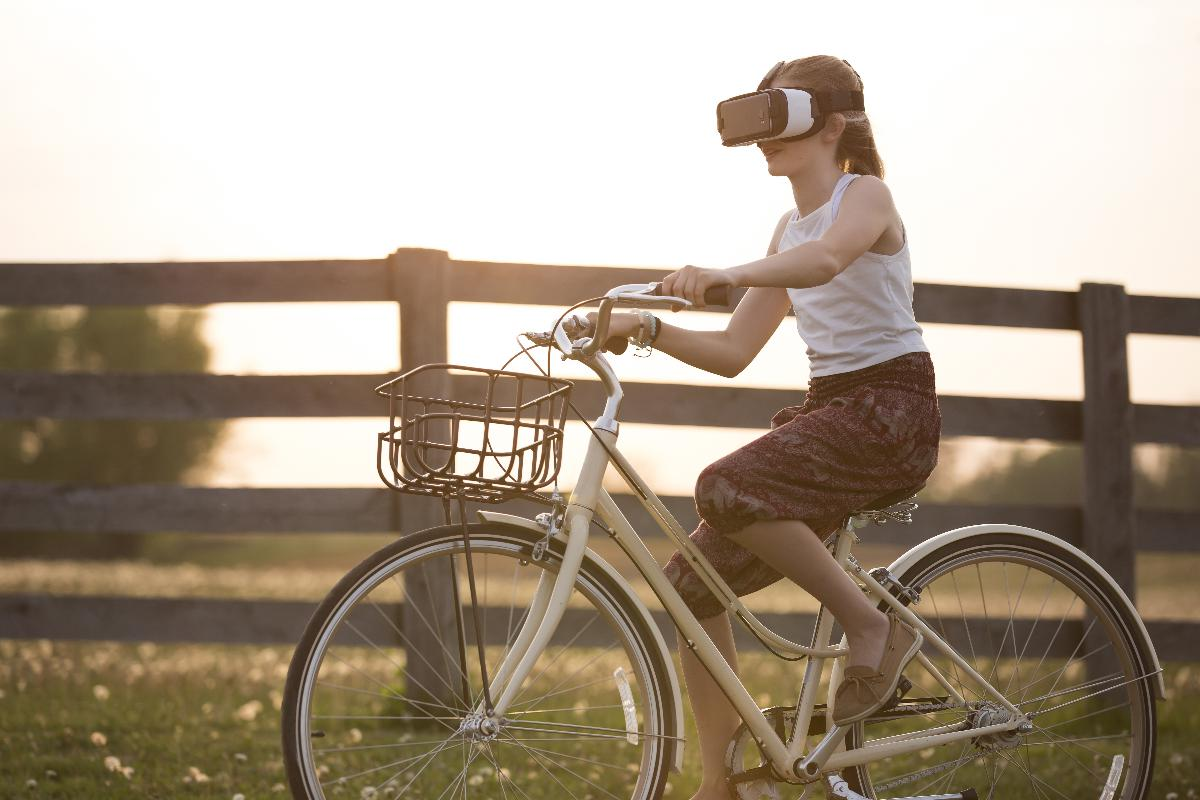Person: (668, 56, 942, 729)
